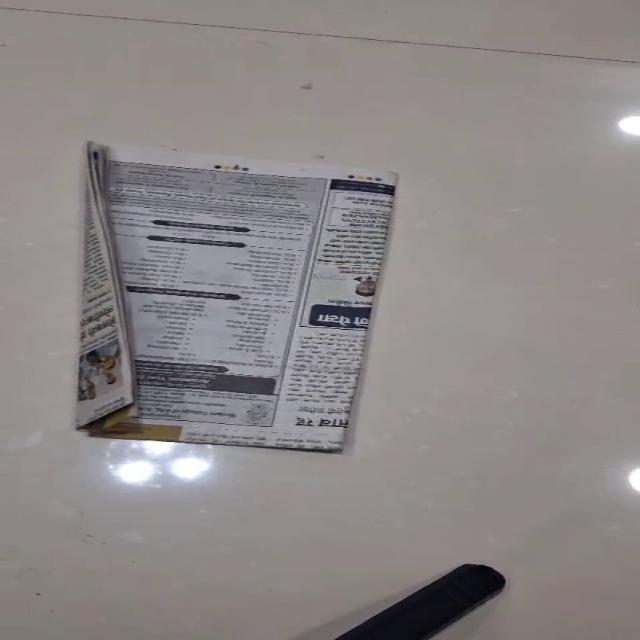paper: (76, 141, 399, 453)
